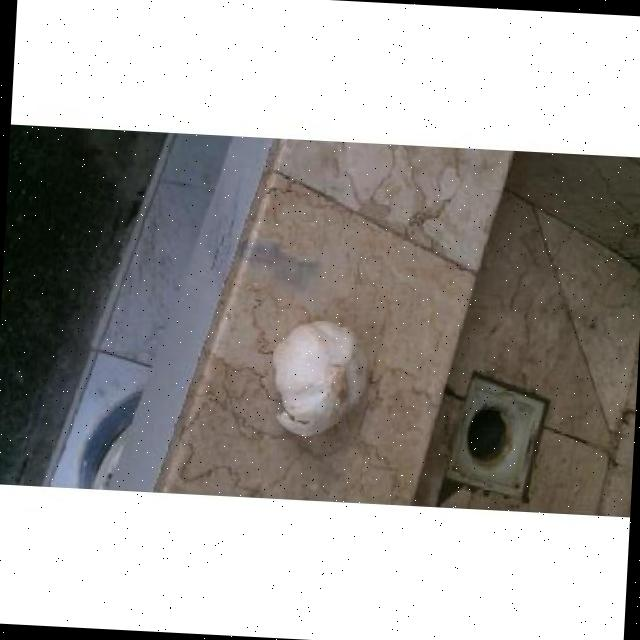garlic: (272, 321, 366, 437)
